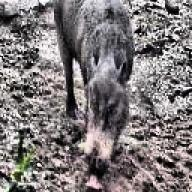boar: (49, 0, 135, 192)
